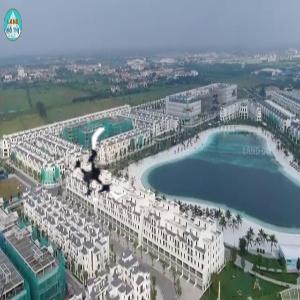drone: (63, 137, 136, 210)
